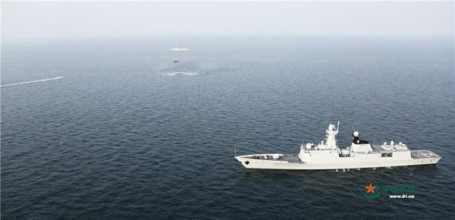warship: (232, 120, 441, 172)
